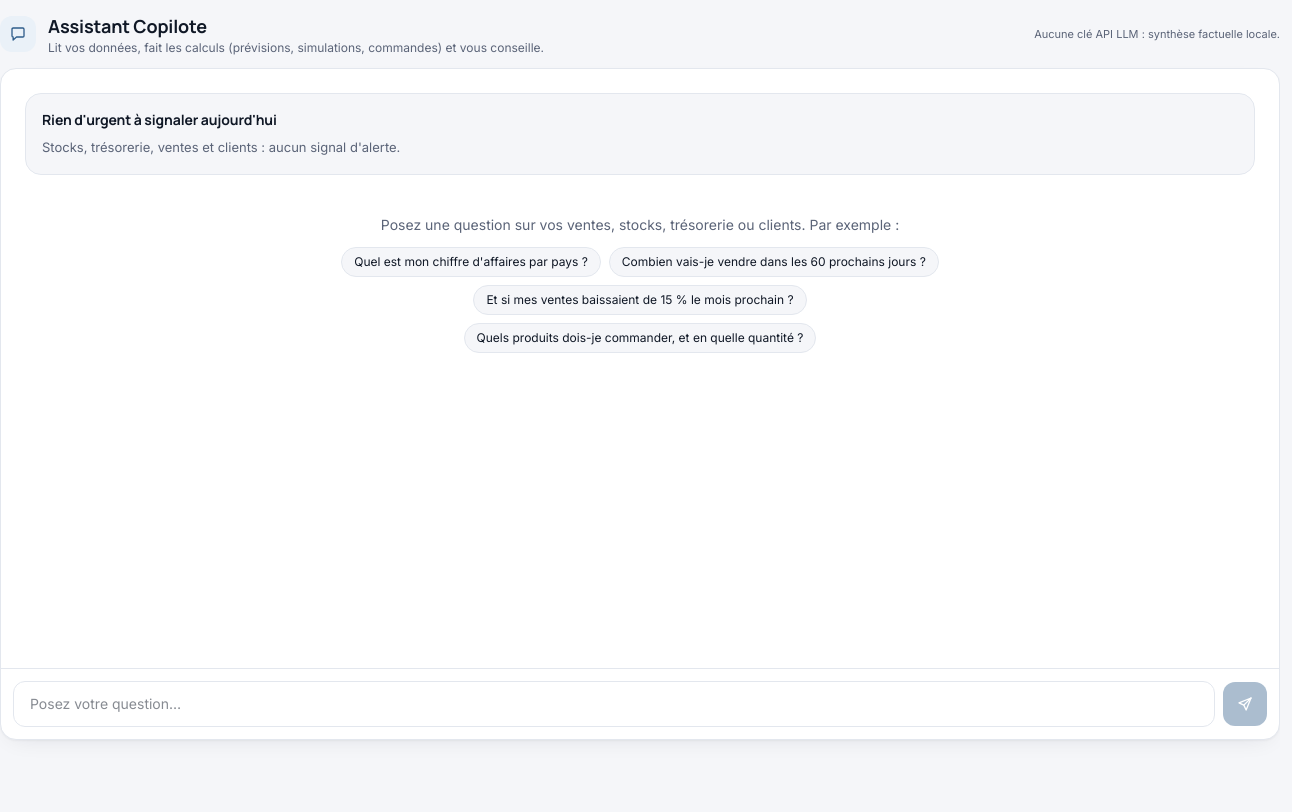
Test: indique le fournisseur et le modèle quand la réponse vient du LLM
Type "Mon CA ?" into the field with placeholder "Posez votre question…" at (614, 704), box [13, 681, 1215, 727]
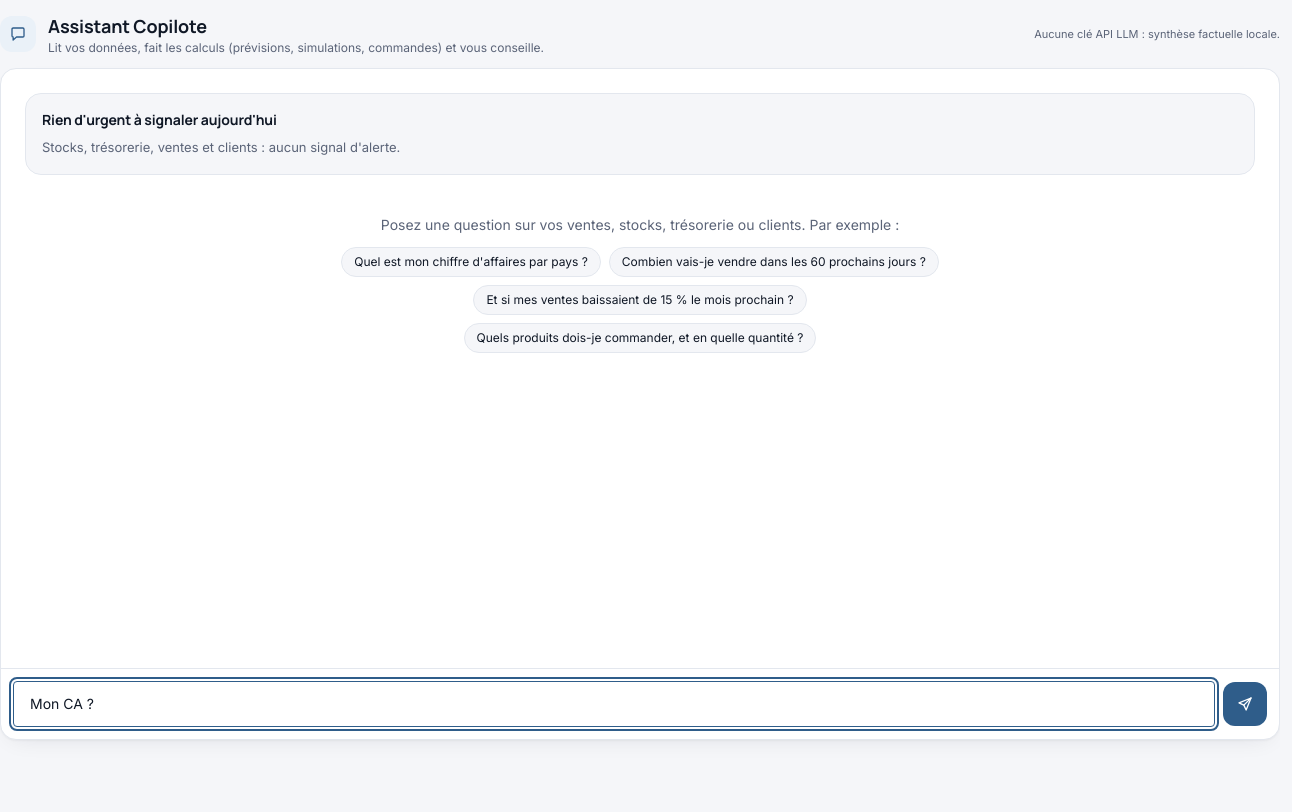
Click the button named "envoyer" at (1245, 704), box [1223, 682, 1267, 726]
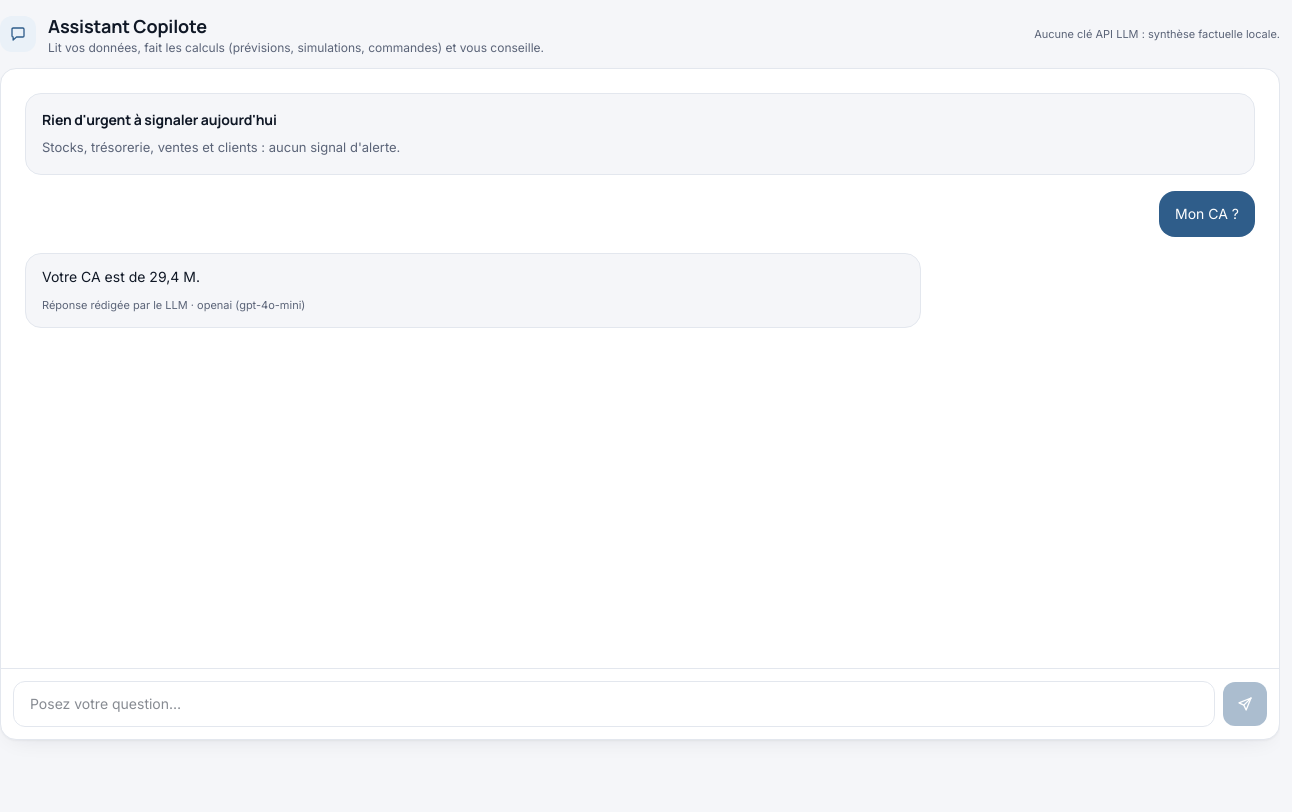
Now the text "Votre CA est de 29,4 M." is shown, box [42, 268, 200, 285]
Now the text with test id "origine-reponse" reads "Réponse rédigée par le LLM · openai (gpt-4o-mini)", box [42, 298, 305, 312]
